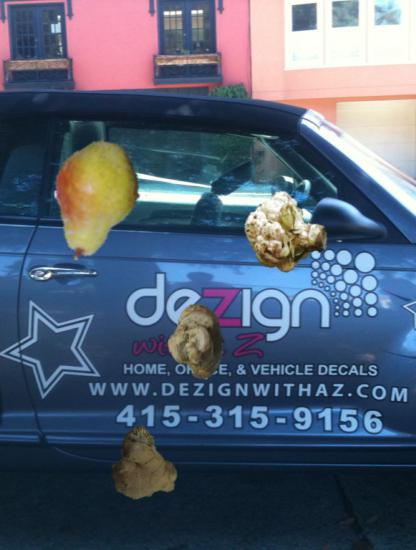Cauliflower: (246, 192, 325, 271)
Ginger: (106, 424, 183, 501), (157, 304, 234, 381)
Pear: (33, 139, 158, 264)
